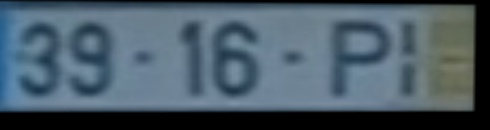1: (174, 18, 209, 101)
3: (16, 21, 65, 101)
6: (211, 19, 265, 102)
9: (69, 21, 118, 101)
I: (399, 21, 419, 100)
P: (328, 20, 397, 101)
